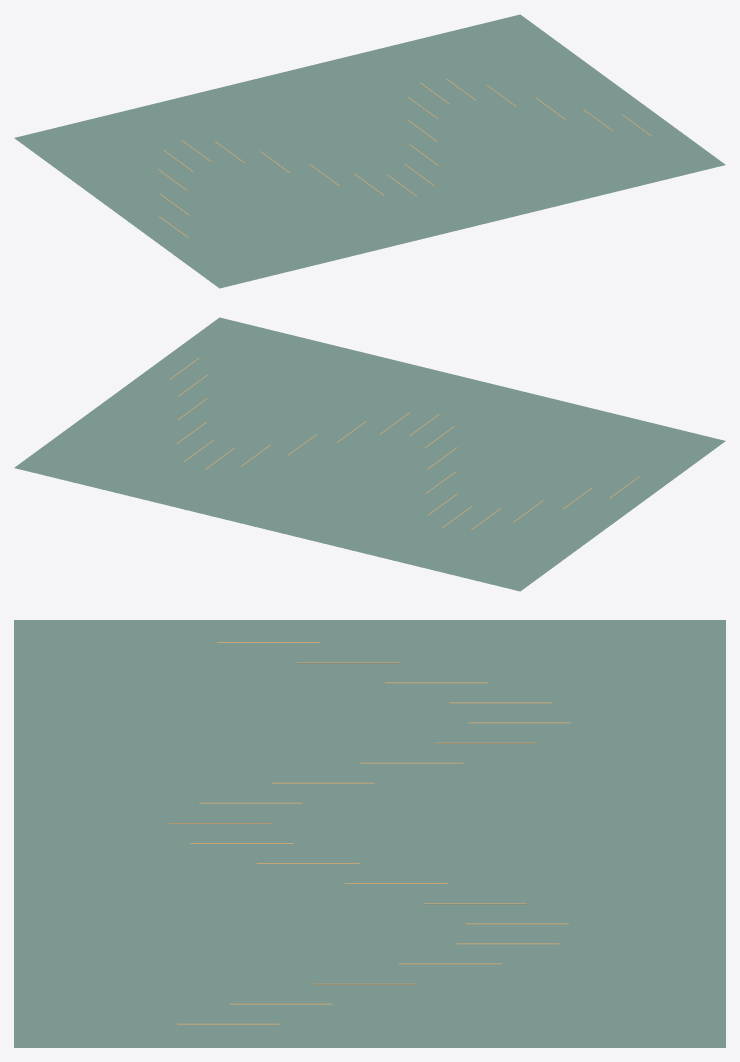
Rendered from 241_L118_L4_LayerReference.glb.
3 renders of one model, top to bottom at view 1: azimuth 30°, elevation 25°; view 2: azimuth 150°, elevation 25°; view 3: azimuth 270°, elevation 25°, orthographic. The views are drawn at different scales.
Parts seen in each view (by area): view 1: 0000__PSMAT__dielectric; view 2: 0000__PSMAT__dielectric; view 3: 0000__PSMAT__dielectric.
Boxes of the visible parts, x1,y1,x2,y2 form: 0000__PSMAT__dielectric: [14, 14, 725, 288]; 0000__PSMAT__dielectric: [14, 317, 725, 591]; 0000__PSMAT__dielectric: [14, 620, 725, 1047].
Bounding box in the file's own units: 0.472 × 0.000549 × 0.332.
